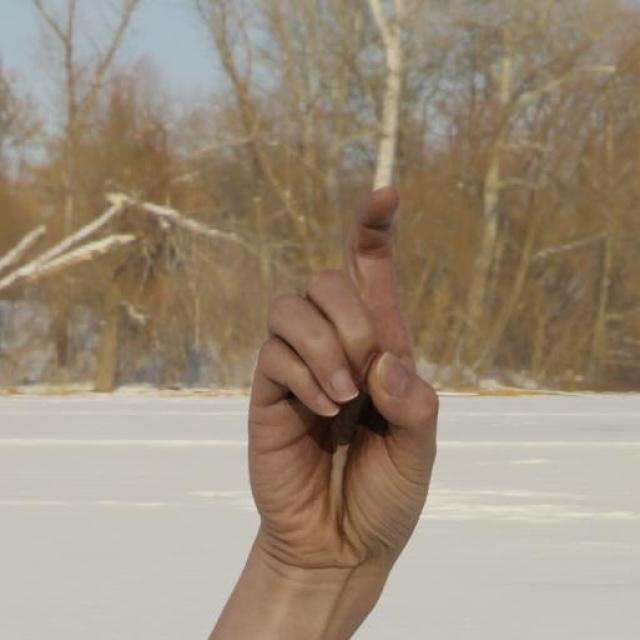X: (244, 182, 443, 572)
